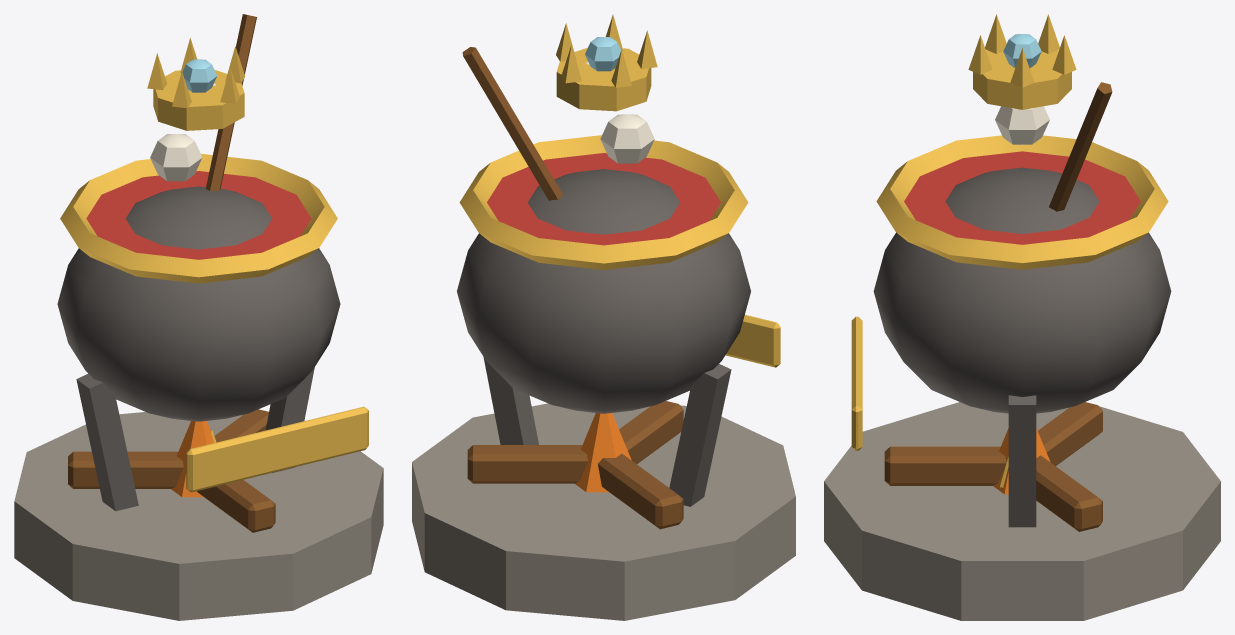
The model's file is PR_Station_Kazan_T3.fbx.
3 views of the same model, side by side, from view 1: azimuth 30°, elevation 25°; view 2: azimuth 150°, elevation 25°; view 3: azimuth 270°, elevation 25° (orthographic). The views are drawn at different scales.
Parts seen in each view (by area): view 1: PR_Station_Kazan_T3; view 2: PR_Station_Kazan_T3; view 3: PR_Station_Kazan_T3.
Part boxes in pixels (left/top/right/bottom): PR_Station_Kazan_T3: left=14, top=14, right=383, bottom=620; PR_Station_Kazan_T3: left=412, top=14, right=795, bottom=620; PR_Station_Kazan_T3: left=824, top=14, right=1220, bottom=620.
Size of the model in its own units: 0.6848 by 1.03 by 0.72.
